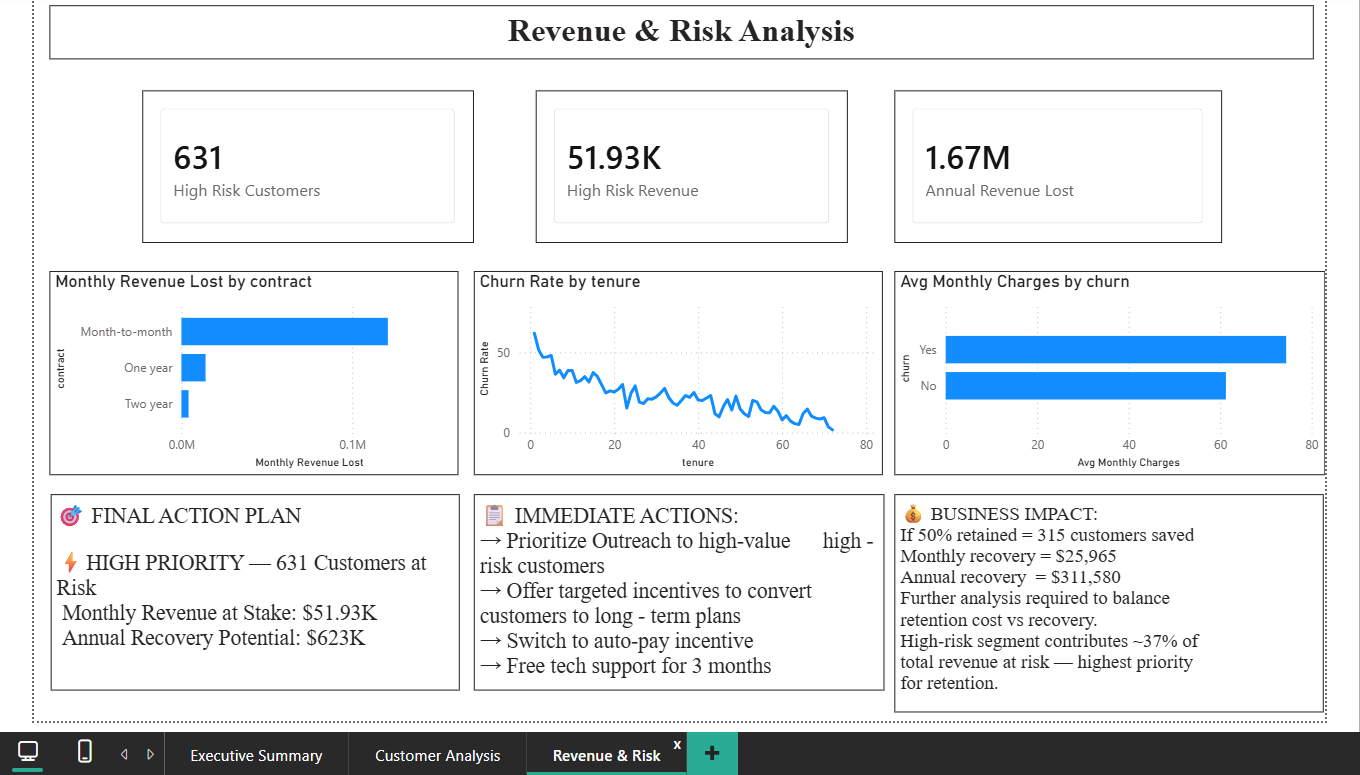

Layout of this report page (visuals, bound fields, positions):
{"tool":"powerbi","page":{"name":"Revenue & Risk","canvas":[1280,720],"ordinal":2},"visuals":[{"type":"textbox","box":[15.3,10.2,1253.5,53.7],"z":0},{"type":"cardVisual","fields":{"Data":["public telco_churn.High Risk Customers"]},"box":[107.4,94.6,328.7,150.9],"z":1000},{"type":"cardVisual","fields":{"Data":["public telco_churn.High Risk Revenue"]},"box":[497.5,94.6,309.5,150.9],"z":2000},{"type":"cardVisual","fields":{"Data":["public telco_churn.Annual Revenue Lost"]},"box":[853.1,94.6,324.9,150.9],"z":3000},{"type":"clusteredBarChart","fields":{"Category":["public telco_churn.contract"],"Y":["public telco_churn.Monthly Revenue Lost"]},"box":[15.3,273.7,405.5,202.1],"z":4000},{"type":"lineChart","fields":{"Category":["public telco_churn.tenure"],"Y":["public telco_churn.Churn Rate"]},"box":[436.2,273.7,405.5,202.1],"z":5000},{"type":"clusteredBarChart","fields":{"Category":["public telco_churn.churn"],"Y":["public telco_churn.Avg Monthly Charges"]},"box":[853.1,273.7,427.2,202.1],"z":6000},{"type":"textbox","box":[16.6,495,405.5,194.4],"z":7000},{"type":"textbox","box":[436.2,495,406.7,194.4],"z":8000},{"type":"textbox","box":[853.1,495,425.9,216.2],"z":9000}]}

Visuals, with their boxes on the page's 1280x720 design canvas (x1, y1, x2, y2). These are canvas units, not pixel positions in the 1360x775 screenshot, which may show the page scaled, cropped or inside an application window:
textbox: [15, 10, 1269, 64]
cardVisual - public telco_churn.High Risk Customers: [107, 95, 436, 246]
cardVisual - public telco_churn.High Risk Revenue: [498, 95, 807, 246]
cardVisual - public telco_churn.Annual Revenue Lost: [853, 95, 1178, 246]
clusteredBarChart - public telco_churn.contract x public telco_churn.Monthly Revenue Lost: [15, 274, 421, 476]
lineChart - public telco_churn.tenure x public telco_churn.Churn Rate: [436, 274, 842, 476]
clusteredBarChart - public telco_churn.churn x public telco_churn.Avg Monthly Charges: [853, 274, 1280, 476]
textbox: [17, 495, 422, 689]
textbox: [436, 495, 843, 689]
textbox: [853, 495, 1279, 711]
